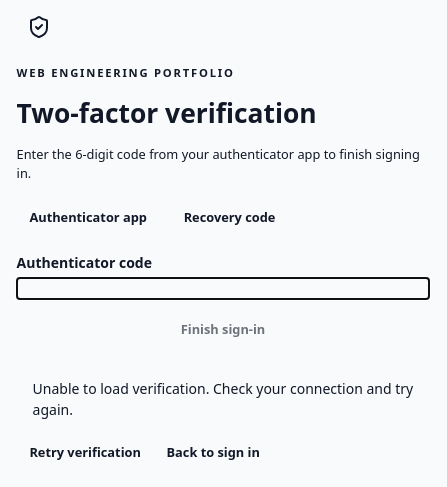
Two-factor account flows › retries a network failure without treating the challenge as expired
Expected: the message shows "Check your connection", [33, 379, 413, 419]
Step 1. Click the button "Retry verification" → (85, 453), box [17, 435, 154, 471]
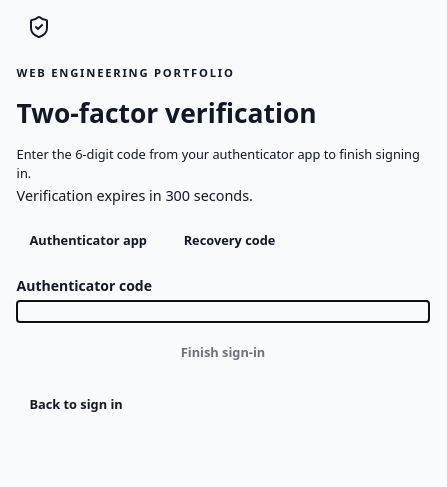
Result: the text "Verification expires in 300 seconds." is shown at [17, 186, 253, 205]
Result: the message "Unable to load verification. Check your connection and try again." is gone
